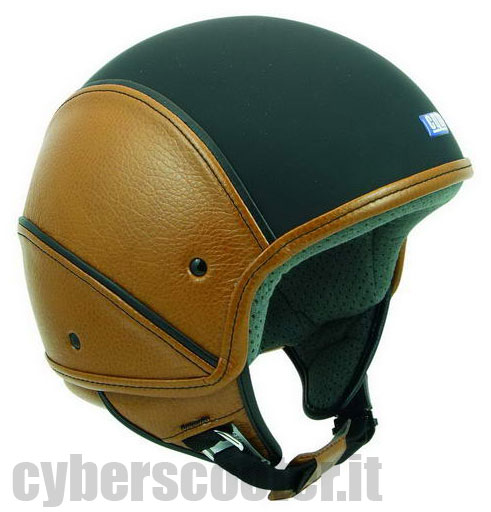helmet: (24, 22, 470, 448)
